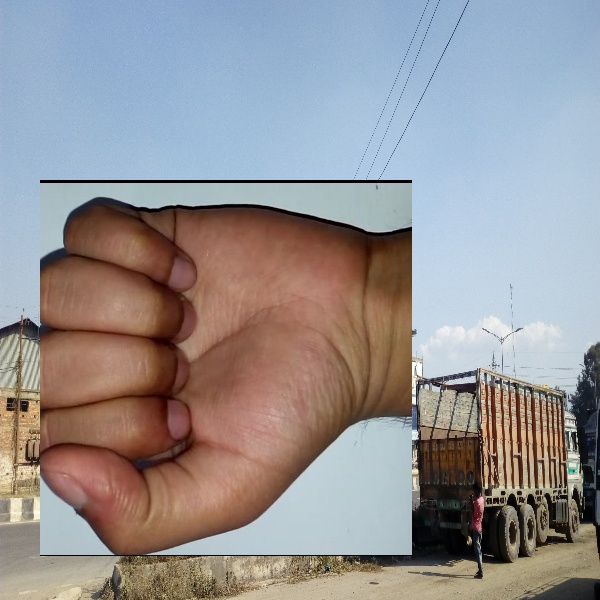A: (40, 180, 412, 556)
